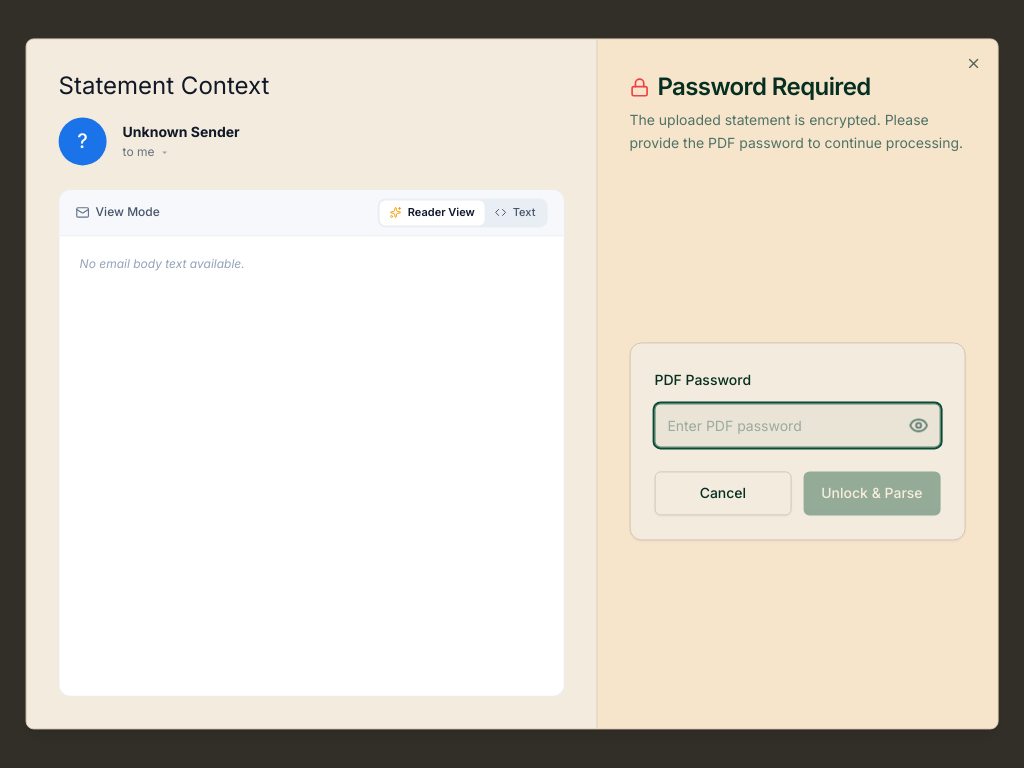
Test case: PasswordPromptModal submission › keeps Unlock disabled until a password is typed
Expected: the button with aria-label "Submit PDF password" is disabled, [803,472,940,516]
Type "hunter2" into the password field labelled "PDF Password".
click(797, 426); type("hunter2")  # box [654,404,940,448]
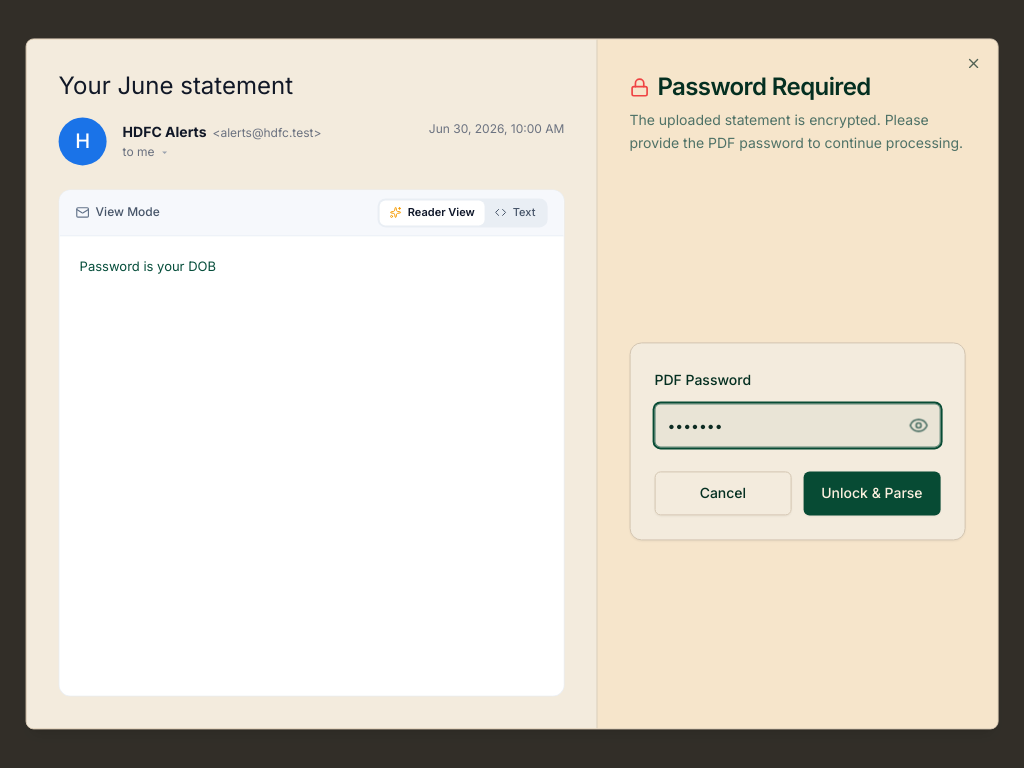
Result: the button with aria-label "Submit PDF password" is enabled at [803,472,940,516]
